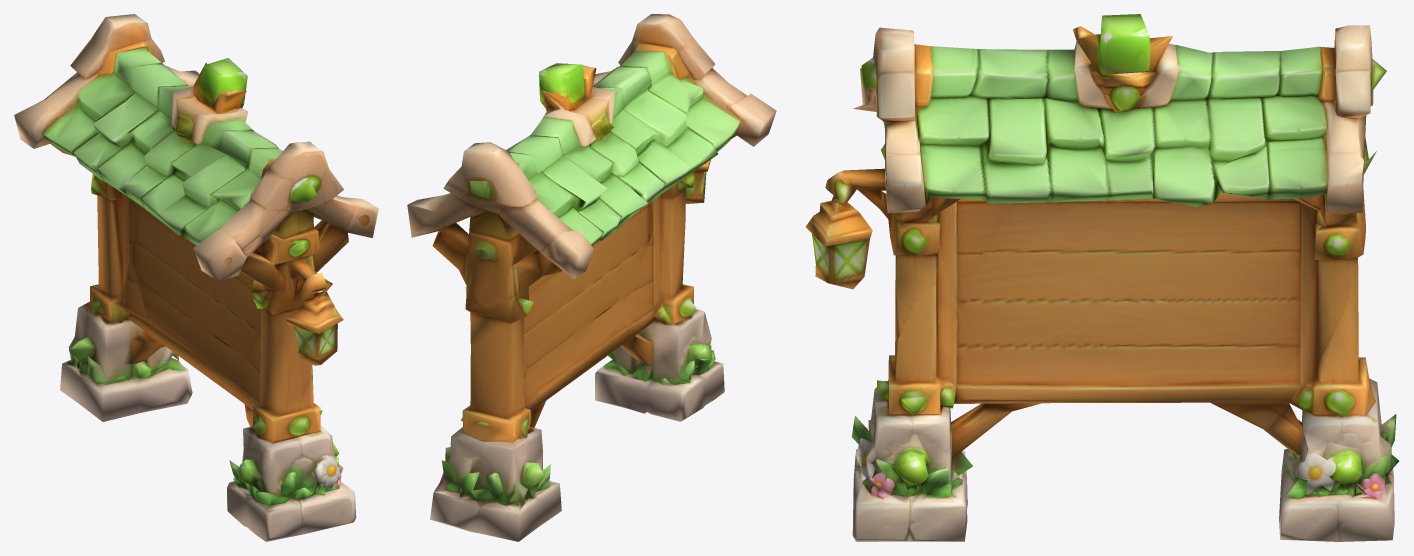
File: Kit_M_JobBoard_raw.glb
3 views of the same model, side by side, from view 1: azimuth 30°, elevation 25°; view 2: azimuth 150°, elevation 25°; view 3: azimuth 270°, elevation 25° (orthographic). The views are drawn at different scales.
Parts seen in each view (by area): view 1: tripo_node_a5762091-ed0e-40d7-9823-e41bead7318e; view 2: tripo_node_a5762091-ed0e-40d7-9823-e41bead7318e; view 3: tripo_node_a5762091-ed0e-40d7-9823-e41bead7318e.
Part boxes in pixels (box(x1,y1,x2,y2)): tripo_node_a5762091-ed0e-40d7-9823-e41bead7318e: box(14, 14, 378, 541); tripo_node_a5762091-ed0e-40d7-9823-e41bead7318e: box(407, 14, 776, 541); tripo_node_a5762091-ed0e-40d7-9823-e41bead7318e: box(805, 14, 1398, 541).
Size of the model in its own units: 0.4591 by 0.9335 by 1.
1 material, 1 textured.
